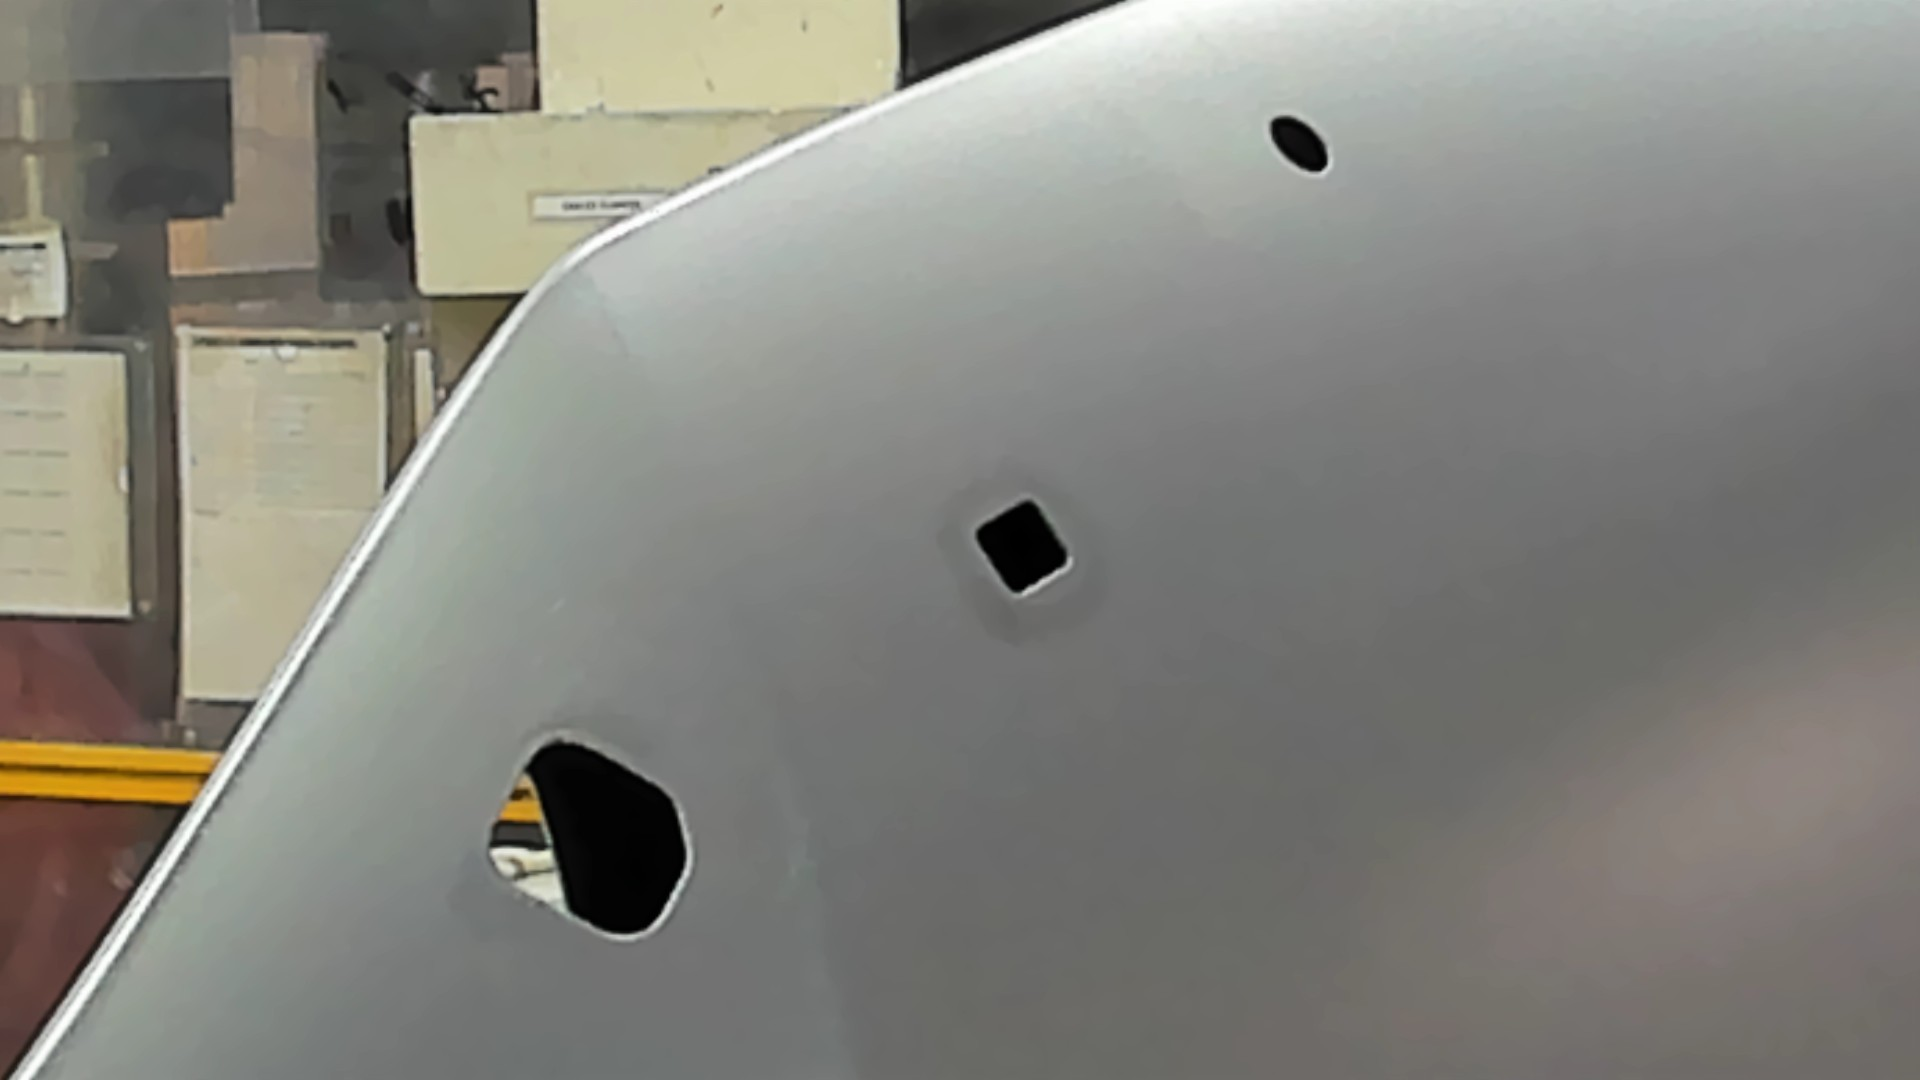chico: (1263, 109, 1338, 183)
grande: (475, 728, 702, 953)
mediano: (967, 495, 1077, 601)
